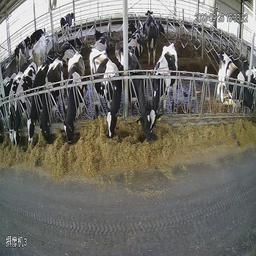cow: (149, 36, 186, 163), (115, 37, 154, 148), (87, 47, 121, 145), (215, 49, 255, 125), (62, 43, 86, 165), (25, 52, 49, 160), (39, 52, 63, 158), (6, 63, 23, 152), (141, 2, 159, 61), (55, 5, 79, 38), (127, 17, 143, 61), (28, 32, 49, 65), (88, 24, 110, 52)
